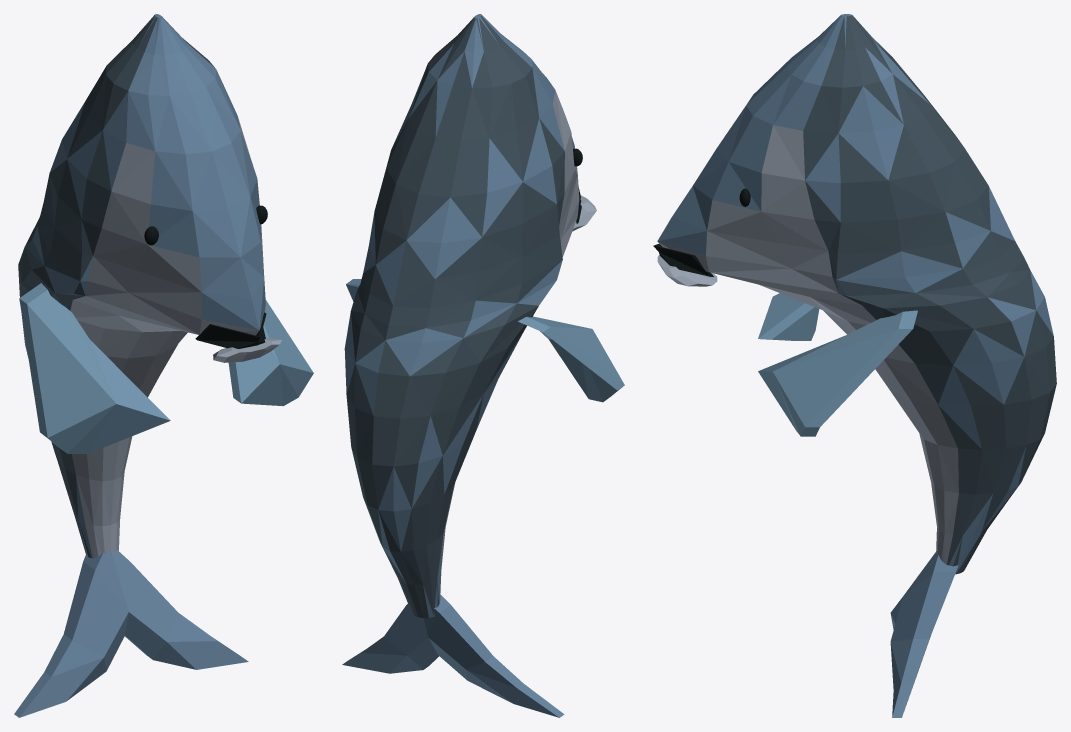
File: fish.glb
3 views of the same model, side by side, from view 1: azimuth 30°, elevation 25°; view 2: azimuth 150°, elevation 25°; view 3: azimuth 270°, elevation 25° (orthographic). The views are drawn at different scales.
Parts seen in each view (by area): view 1: GEO-Fish; view 2: GEO-Fish; view 3: GEO-Fish.
Boxes of the visible parts, x1,y1,x2,y2 form: GEO-Fish: [14, 14, 313, 717]; GEO-Fish: [342, 14, 624, 717]; GEO-Fish: [653, 14, 1056, 717].
Size of the model in its own units: 0.977 by 2.42 by 1.36.
